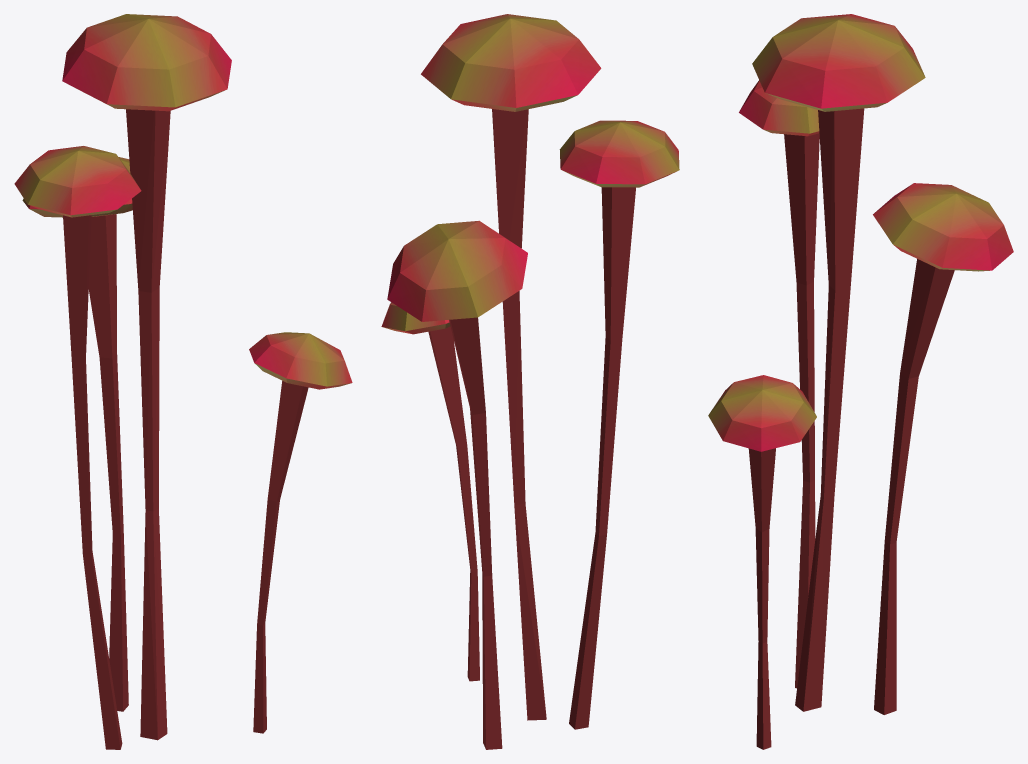
File: ZLP_Mushroom_A_8.FBX
The picture shows the model from 3 angles, left to right: view 1: azimuth 30°, elevation 25°; view 2: azimuth 150°, elevation 25°; view 3: azimuth 270°, elevation 25°; orthographic projection. The views are drawn at different scales.
Parts seen in each view (by area): view 1: ZLP_Mushroom_A_8; view 2: ZLP_Mushroom_A_8; view 3: ZLP_Mushroom_A_8.
Part boxes in pixels (box(x1,y1,x2,y2)): ZLP_Mushroom_A_8: box(14, 14, 352, 749); ZLP_Mushroom_A_8: box(381, 14, 679, 749); ZLP_Mushroom_A_8: box(708, 14, 1013, 749).
Size of the model in its own units: 65.45 by 145 by 57.89.
